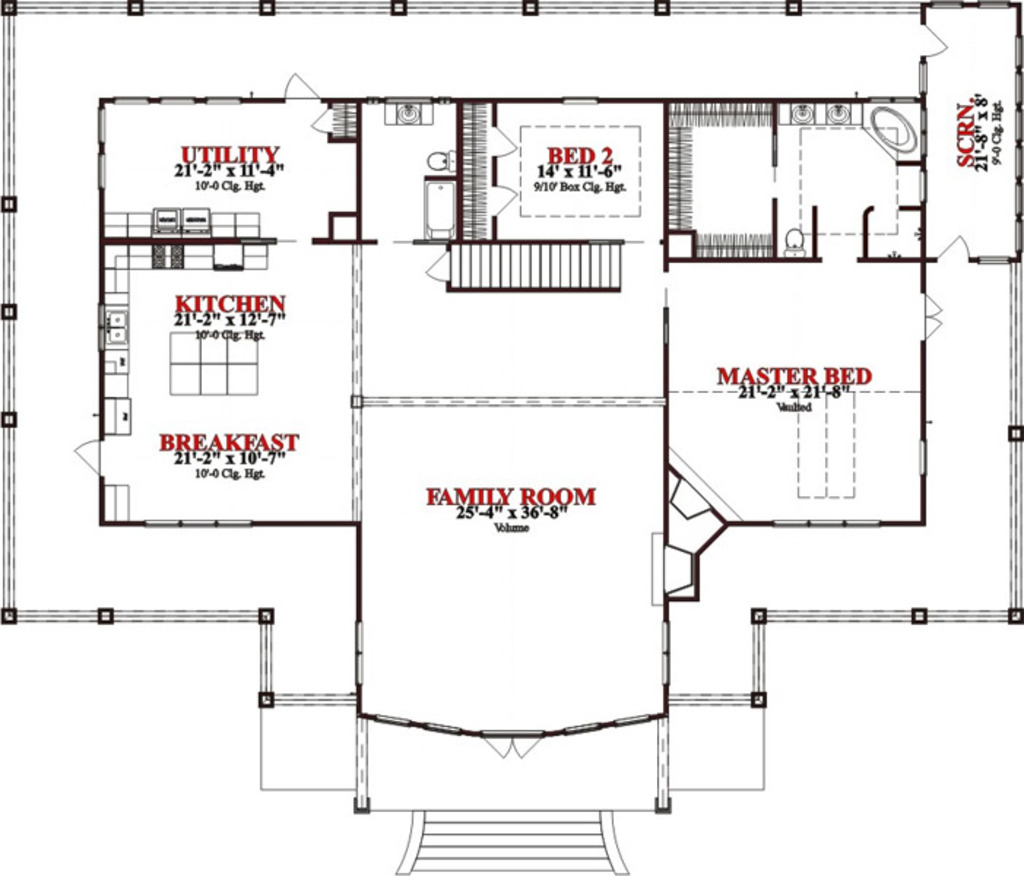door: (480, 724, 541, 760), (279, 71, 319, 104), (916, 22, 947, 61), (935, 230, 973, 261), (73, 433, 100, 476), (491, 184, 521, 221), (921, 292, 942, 344), (491, 128, 521, 163)
large_sink: (779, 221, 813, 260), (423, 149, 459, 169)
stairs: (395, 810, 619, 876), (441, 243, 622, 299)
tub: (421, 180, 468, 243), (868, 98, 917, 158)
twin_sink: (105, 308, 135, 349)
windows: (766, 514, 883, 532), (141, 519, 255, 530)
